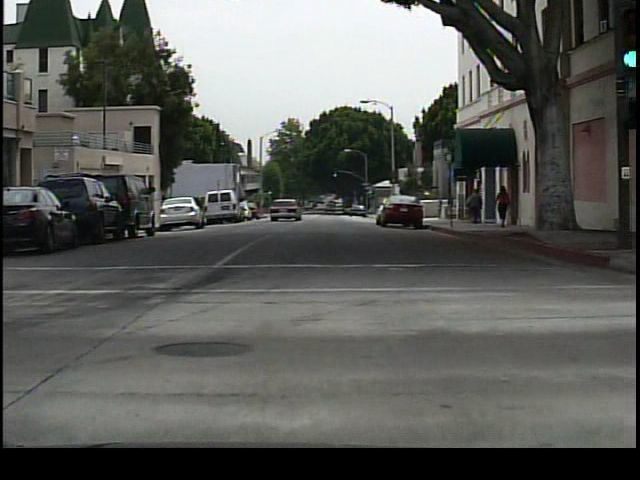person: (493, 181, 514, 230), (463, 185, 483, 228)
